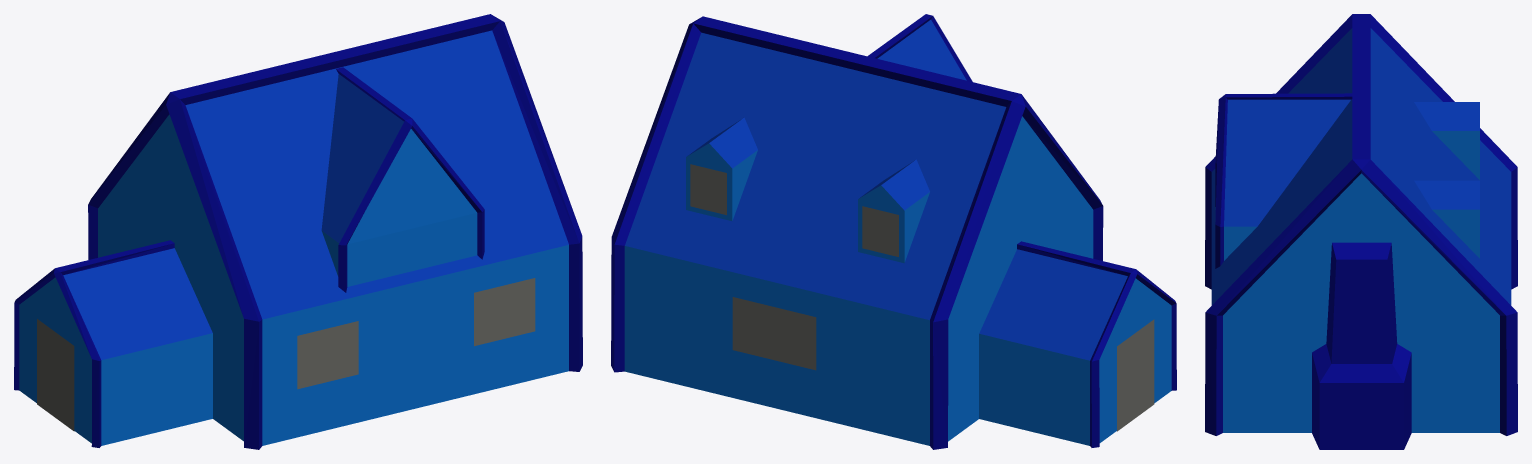
File: House-Snow-M-2.fbx
3 views of the same model, side by side, from view 1: azimuth 30°, elevation 25°; view 2: azimuth 150°, elevation 25°; view 3: azimuth 270°, elevation 25° (orthographic). The views are drawn at different scales.
Parts seen in each view (by area): view 1: House-Snow-M-2; view 2: House-Snow-M-2; view 3: House-Snow-M-2.
Boxes of the visible parts, bbox=[...] form: House-Snow-M-2: bbox=[14, 14, 582, 449]; House-Snow-M-2: bbox=[611, 14, 1176, 449]; House-Snow-M-2: bbox=[1205, 14, 1517, 449].
Size of the model in its own units: 1038 by 603 by 627.
